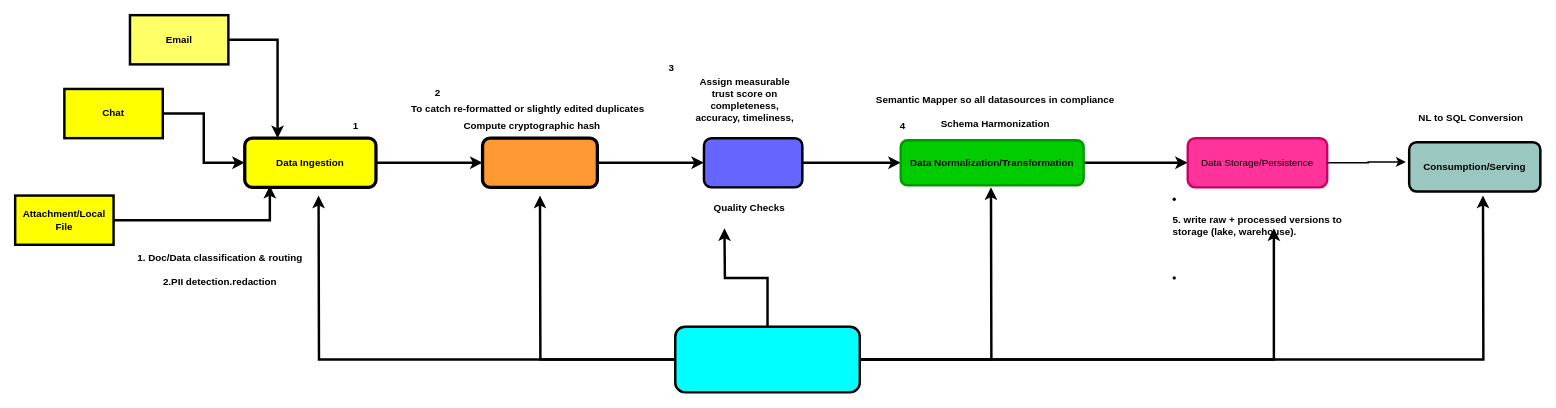
This 1556x408 diagram has some shape labels left out. The shapes that lost their labels are listed below. From the top down, each one's box as (x1, y1, x2, y2) in pixels, then its label:
(481, 136, 599, 189): Data Deduplication
(702, 137, 803, 188): Data Quality & Validation
(674, 325, 861, 393): Lineage & Governance
